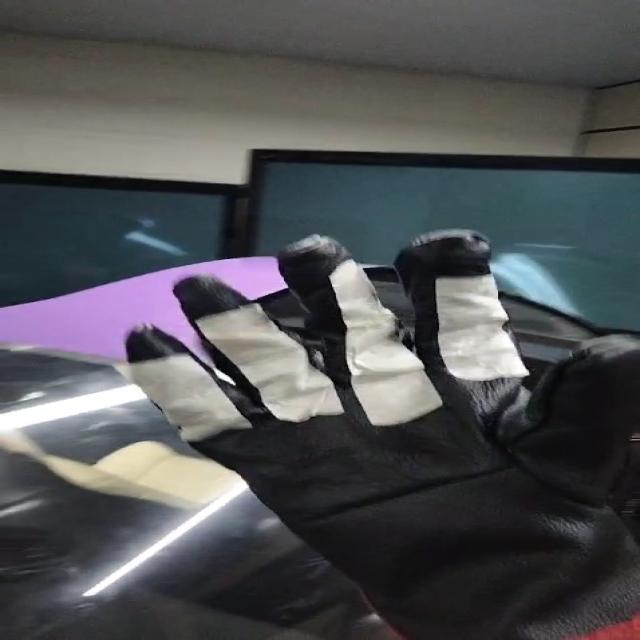Gloves: (130, 229, 640, 640)
